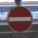No entry: (6, 5, 33, 33)
